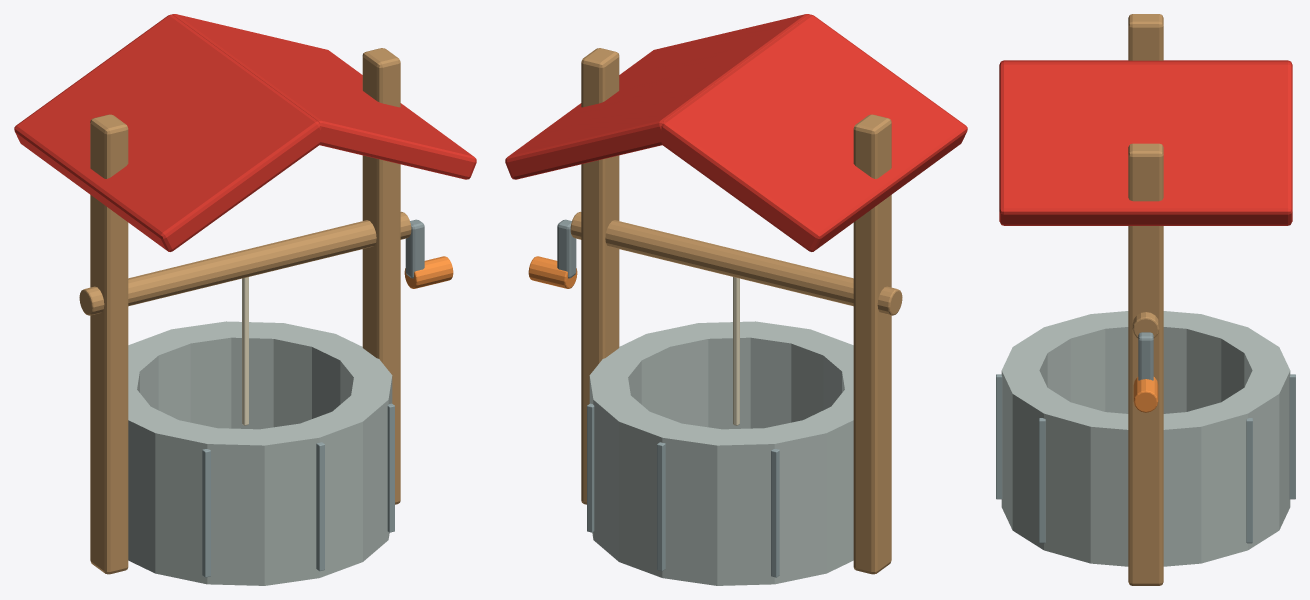
Rendered from S054_roofed_well.glb.
3 views of the same model, side by side, from view 1: azimuth 30°, elevation 25°; view 2: azimuth 150°, elevation 25°; view 3: azimuth 270°, elevation 25° (orthographic). The views are drawn at different scales.
Parts seen in each view (by area): view 1: well_ring, well_roof, well_roof_post, well_roof.001, well_roof_post.001, winch_axle, well_block_seam.005, well_block_seam.006, rope, well_block_seam.007, crank_grip, crank_arm; view 2: well_ring, well_roof, well_roof_post, well_roof.001, well_roof_post.001, winch_axle, well_block_seam.003, well_block_seam.002, rope, well_block_seam.001, crank_grip, crank_arm; view 3: well_ring, well_roof.001, well_roof_post.001, well_roof_post, well_roof, well_block_seam.001, well_block_seam.007, well_block_seam.002, well_block_seam.006, crank_grip, crank_arm, winch_axle.
Part boxes in pixels (x1,y1,x2,y2): well_ring: (128,321,392,585); well_roof: (14,14,324,251); well_roof_post: (90,114,128,574); well_roof.001: (172,14,476,179); well_roof_post.001: (362,48,400,504); winch_axle: (79,211,411,315); well_block_seam.005: (202,449,210,577); well_block_seam.006: (316,442,324,571); rope: (242,277,248,425); well_block_seam.007: (387,403,394,532); crank_grip: (404,256,453,288); crank_arm: (405,219,424,278); well_ring: (589,321,853,585); well_roof: (657,14,967,251); well_roof_post: (853,114,891,574); well_roof.001: (505,14,809,179); well_roof_post.001: (581,48,619,504); winch_axle: (570,211,902,315); well_block_seam.003: (771,449,779,577); well_block_seam.002: (657,442,665,571); rope: (733,277,739,425); well_block_seam.001: (587,403,594,532); crank_grip: (528,256,577,288); crank_arm: (557,219,576,278); well_ring: (1001,311,1290,566); well_roof.001: (999,63,1292,225); well_roof_post.001: (1128,143,1163,585); well_roof_post: (1128,14,1163,60); well_roof: (999,60,1292,66); well_block_seam.001: (1246,418,1252,543); well_block_seam.007: (1039,418,1045,543); well_block_seam.002: (1289,374,1295,499); well_block_seam.006: (996,374,1002,499); crank_grip: (1133,377,1158,412); crank_arm: (1138,332,1153,380); winch_axle: (1132,312,1159,338).
Bounding box in the file's own units: 1.83 × 2.26 × 1.35.
